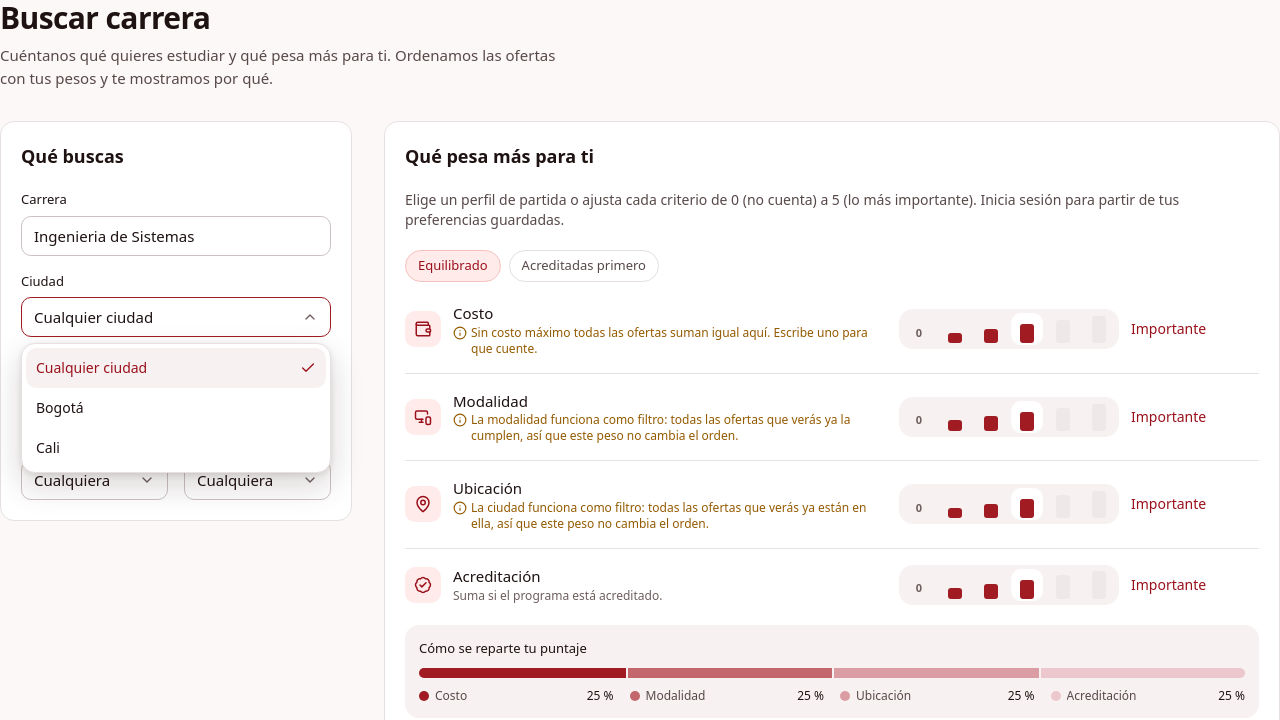
Test: Buscar › envía los filtros y los pesos, guarda la búsqueda reciente y navega a los resultados
Earlier steps of the test are not shown.
Click the option "Cali" at (48, 448), box [36, 438, 60, 457]
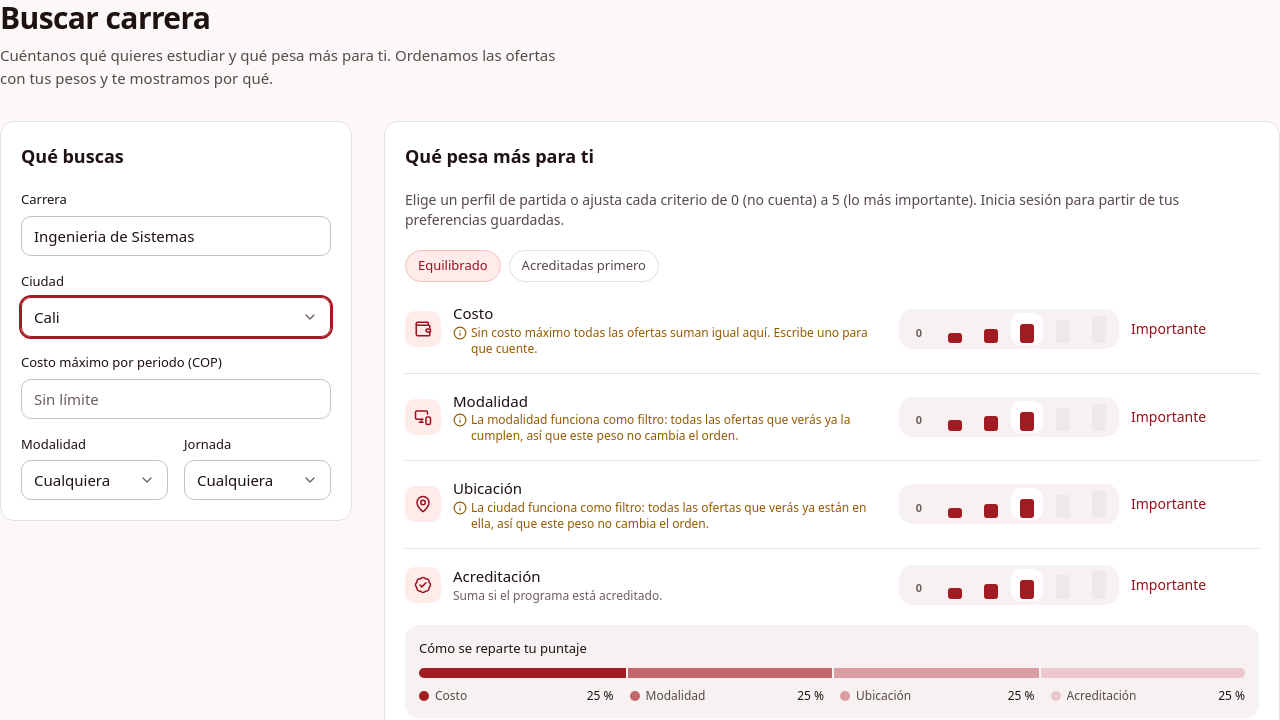
Type "5000000" into the number field labelled "Costo máximo por periodo (COP)" at (176, 398), box [21, 378, 331, 418]
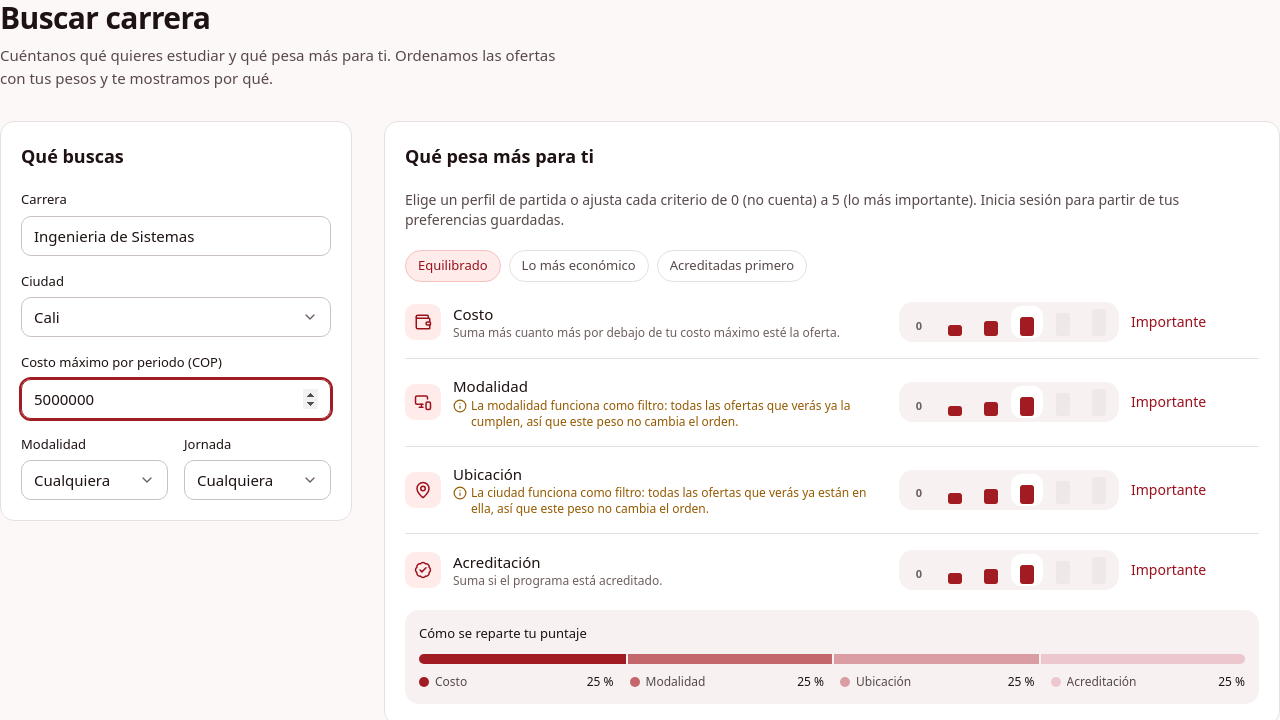
Click the button named "Modalidad" at (94, 480), box [21, 460, 168, 500]
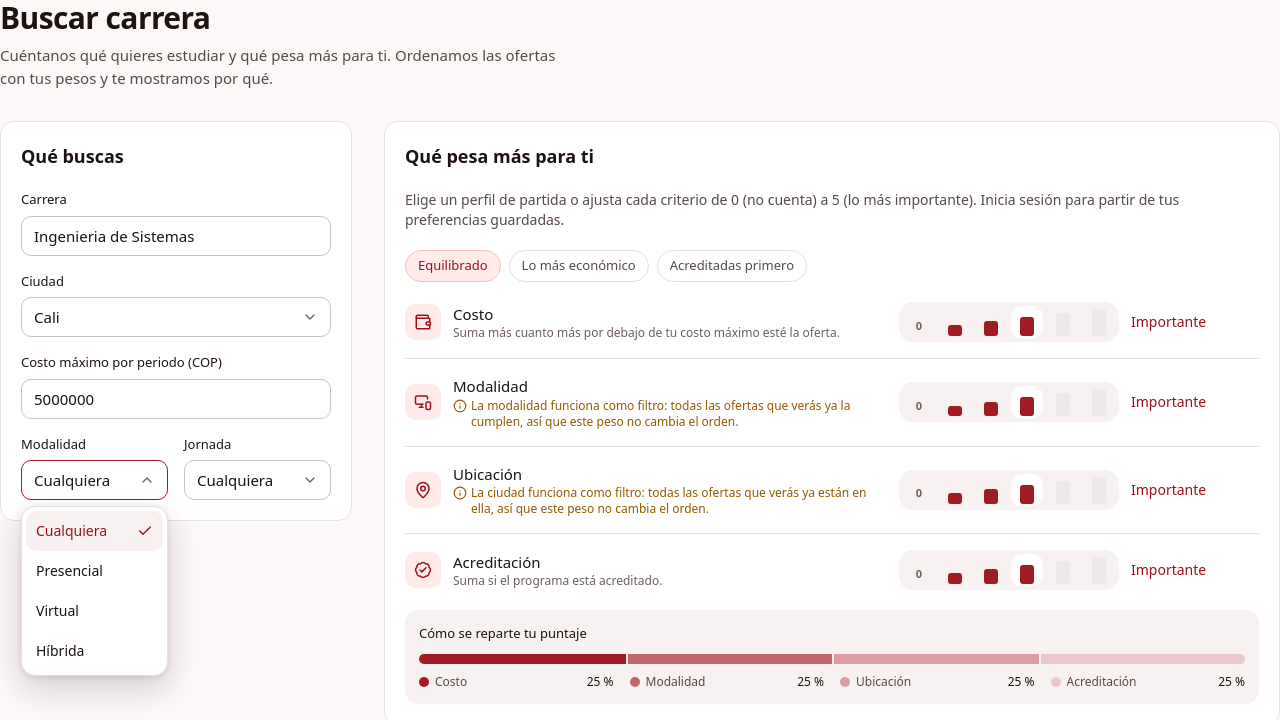
Click the option "Virtual" at (58, 610), box [36, 601, 79, 620]
(page scrolled)
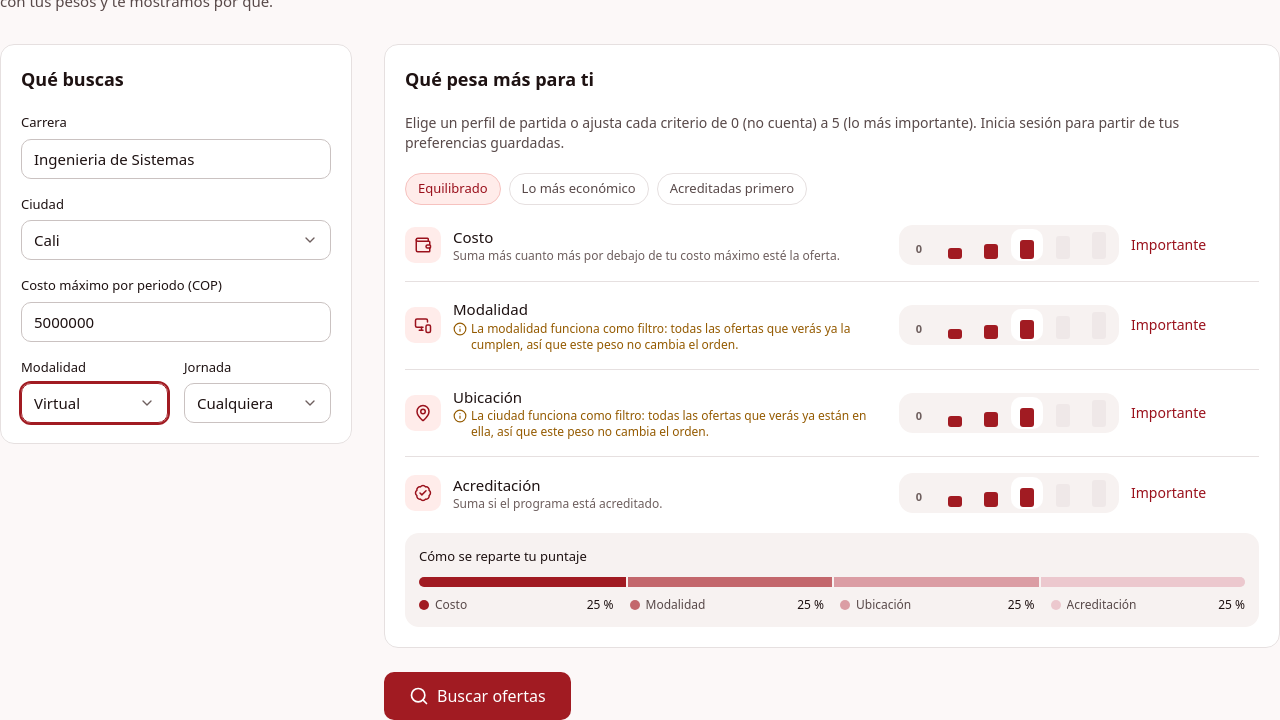
Click the button "Buscar ofertas" at (477, 696), box [384, 672, 571, 719]
(page scrolled)
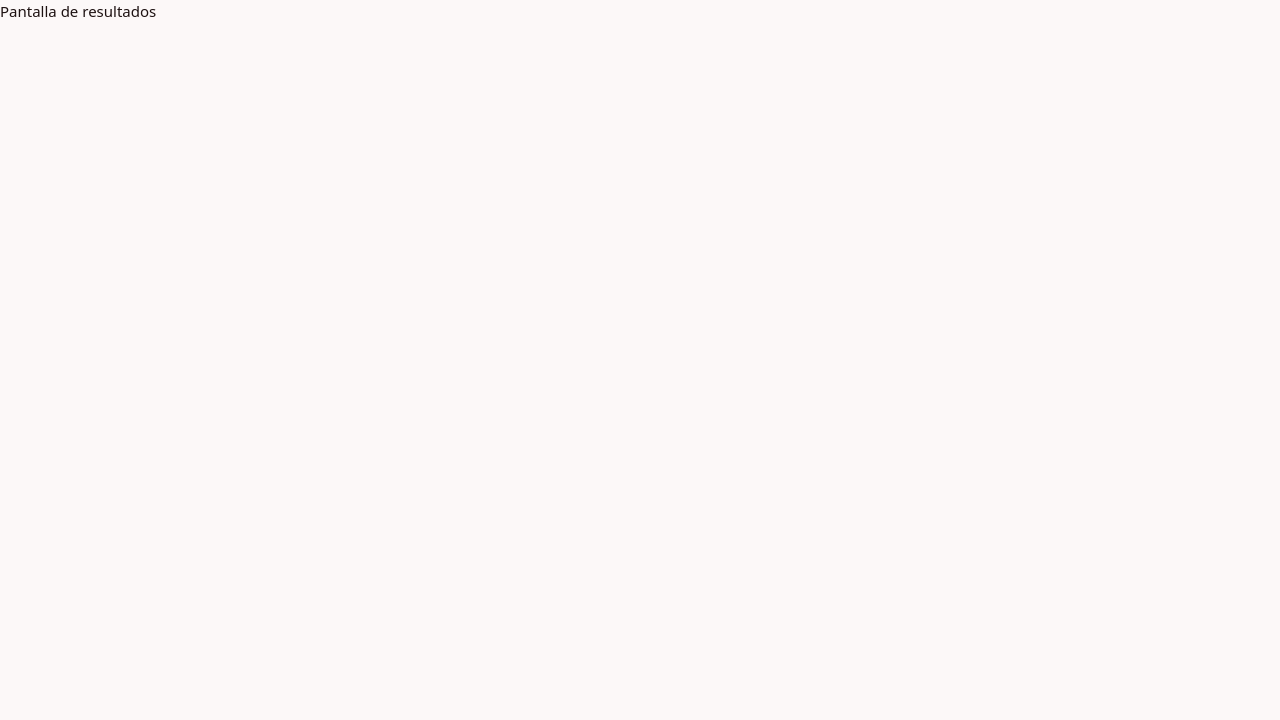
Now the text "Pantalla de resultados" is shown, box [0, 1, 156, 21]
